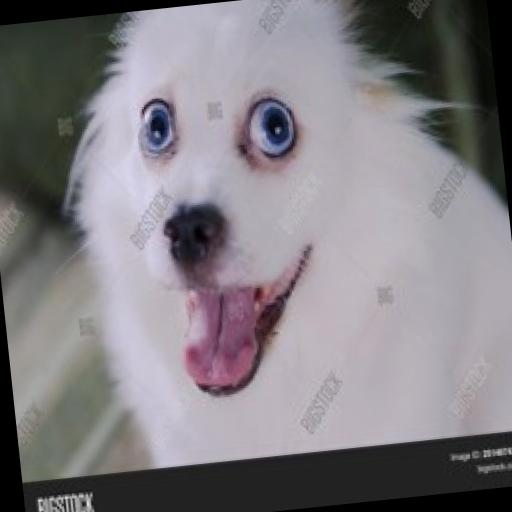dog: (43, 0, 512, 479)
